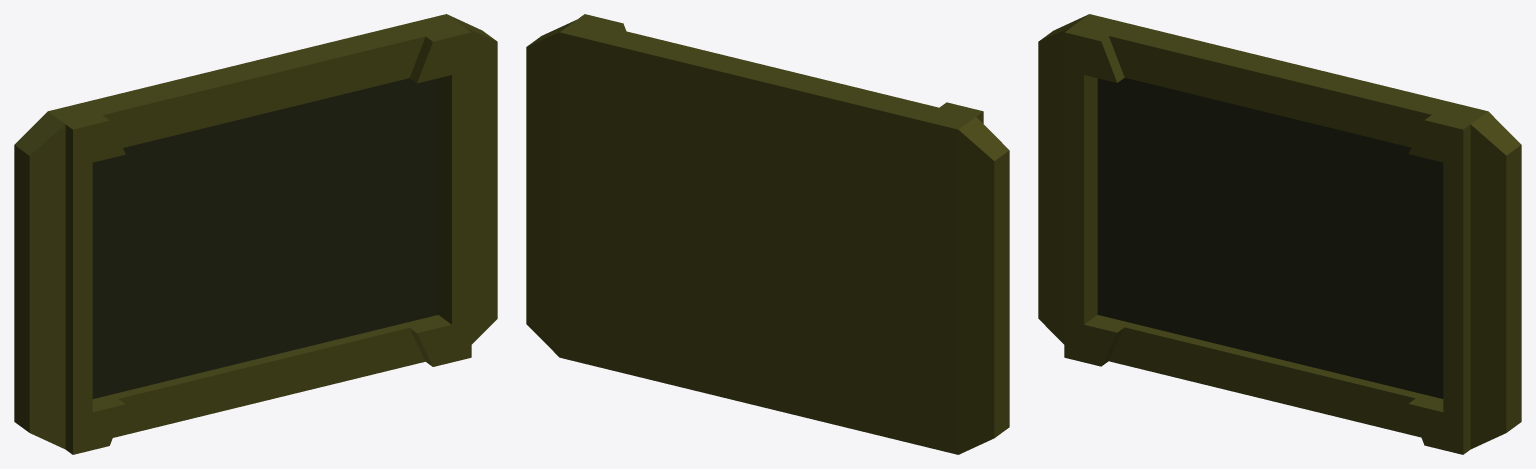
Rendered from SM_Venus_Tablet.fbx.
The picture shows the model from 3 angles, left to right: view 1: azimuth 30°, elevation 25°; view 2: azimuth 150°, elevation 25°; view 3: azimuth 330°, elevation 25°; orthographic projection.
Parts seen in each view (by area): view 1: SM_Venus_Tablet; view 2: SM_Venus_Tablet; view 3: SM_Venus_Tablet.
Part boxes in pixels (box(x1,y1,x2,y2)): SM_Venus_Tablet: box(14, 14, 497, 454); SM_Venus_Tablet: box(526, 14, 1009, 454); SM_Venus_Tablet: box(1038, 14, 1521, 454).
Bounding box in the file's own units: 1.04 × 0.6907 × 0.0966.
